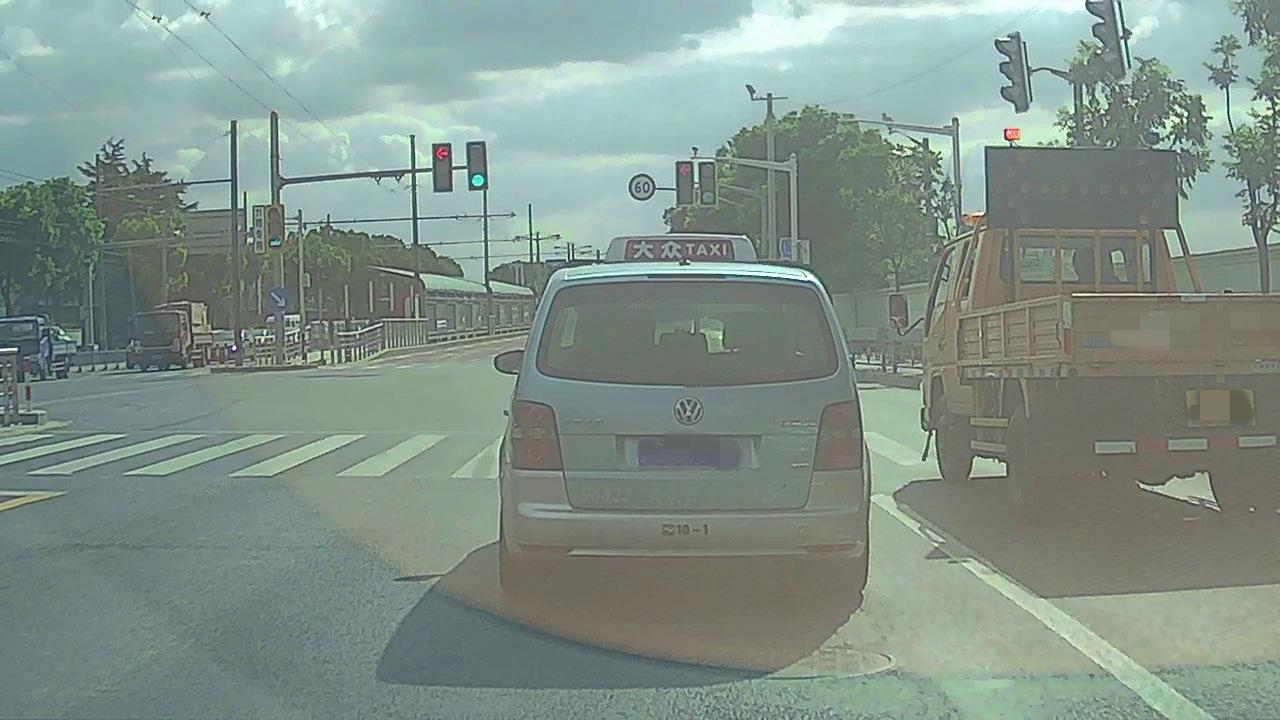traffic_light: (432, 144, 452, 194), (468, 142, 487, 190), (701, 160, 717, 207), (677, 162, 694, 205)
